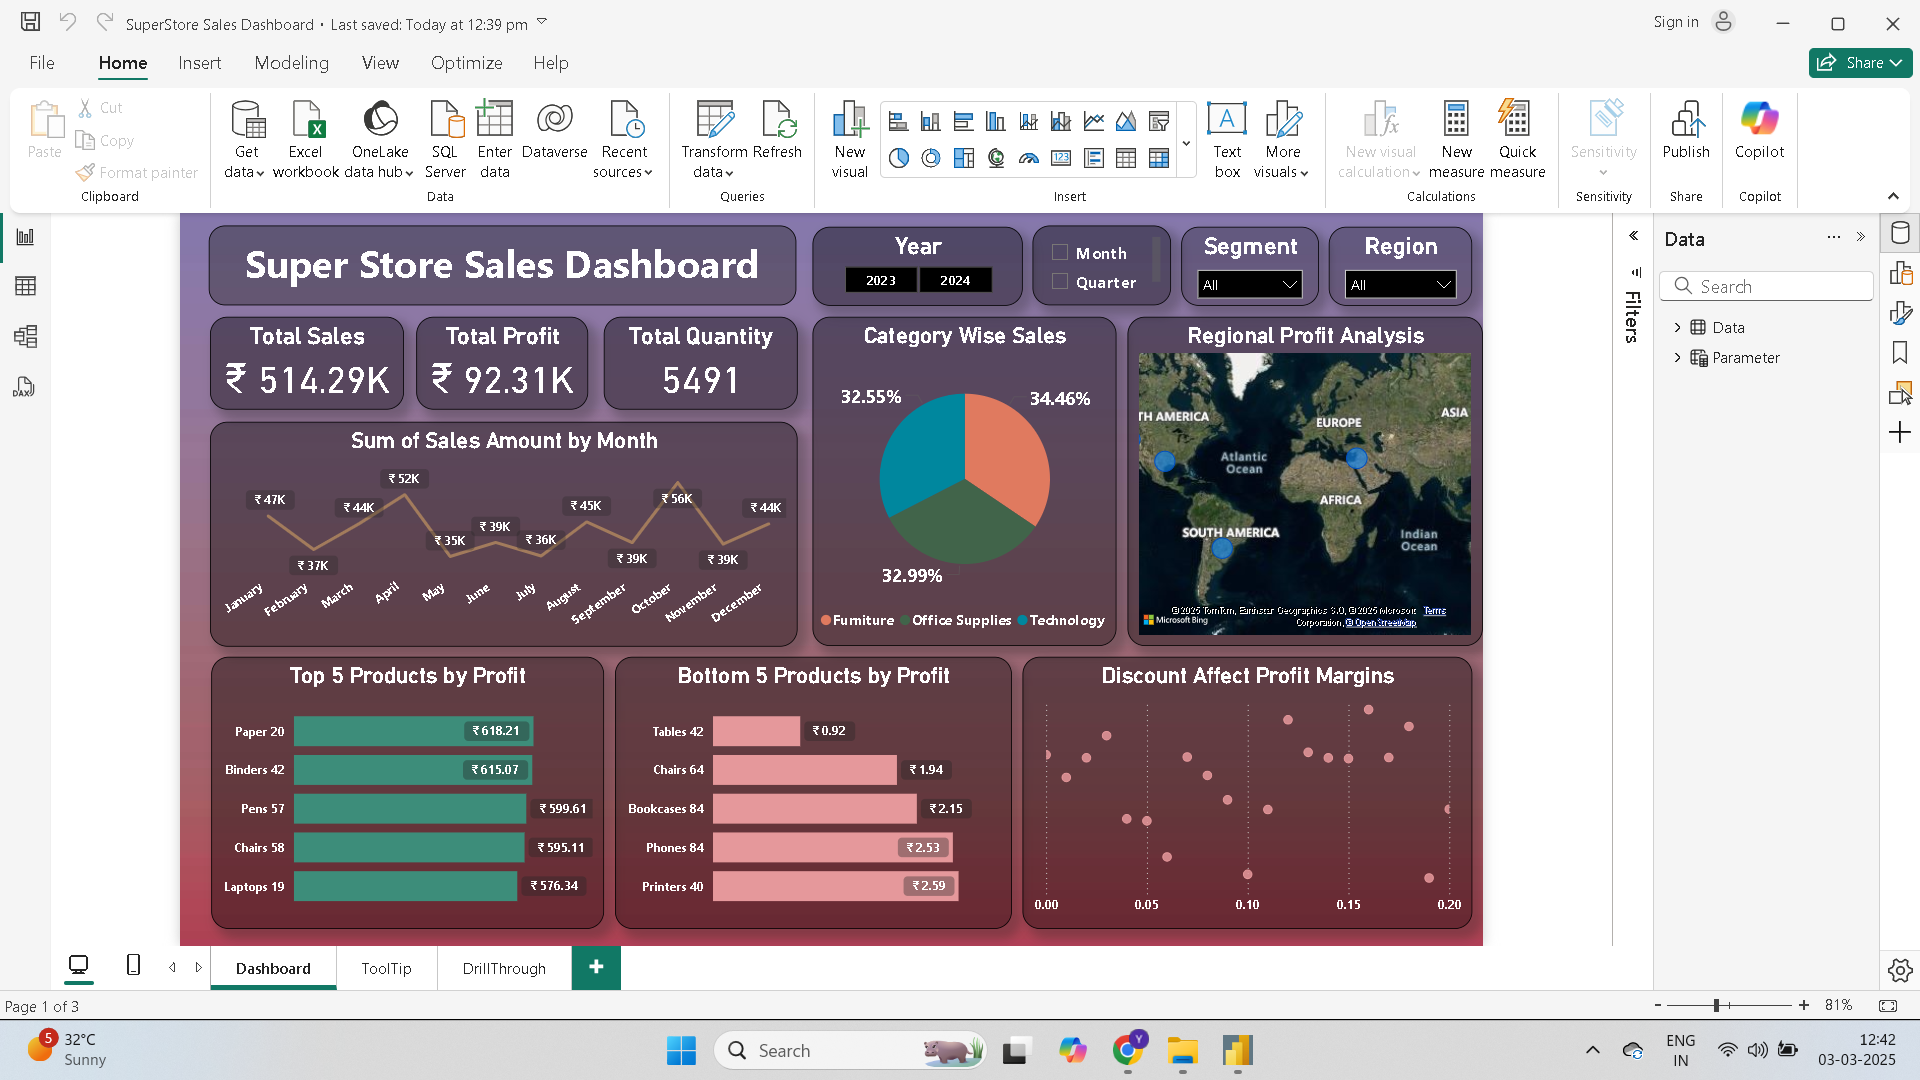

The dashboard page shown, as its layout file describes it:
{"tool":"powerbi","page":{"name":"Dashboard","canvas":[1280,720],"ordinal":0},"visuals":[{"type":"textbox","box":[28.2,12.3,576.7,78.5],"z":0},{"type":"card","title":"Total Sales","fields":{"Values":["Sum(Data.Sales Amount)"]},"box":[28.9,102.4,190.4,90.9],"z":1000},{"type":"card","title":"Total Profit","fields":{"Values":["Sum(Data.Profit)"]},"box":[232.3,102.4,168.8,90.9],"z":2000},{"type":"card","title":"Total Quantity","fields":{"Values":["Sum(Data.Quantity)"]},"box":[415.5,102.4,190.4,90.9],"z":3000},{"type":"pieChart","title":"Category Wise Sales","fields":{"Category":["Data.Category"],"Y":["Sum(Data.Sales Amount)"]},"box":[620.4,102.4,298.7,323.2],"z":4000},{"type":"lineChart","fields":{"Y":["Sum(Data.Sales Amount)"],"Category":["Data.Order Date.Variation.Date Hierarchy.Month","Data.Order Date.Variation.Date Hierarchy.Quarter"]},"box":[28.9,204.9,577.1,220.7],"z":5000},{"type":"slicer","fields":{"Values":["Parameter.Parameter"]},"box":[836.8,12.3,136.2,78.5],"z":6000},{"type":"barChart","title":"Top 5 Products by Profit","fields":{"Category":["Data.Product Name"],"Y":["Sum(Data.Profit)"]},"box":[30.3,435.7,385.2,266.9],"z":6001},{"type":"barChart","title":"Bottom 5 Products by Profit","fields":{"Category":["Data.Product Name"],"Y":["Sum(Data.Profit)"]},"box":[427.1,435.7,389.5,266.9],"z":6002},{"type":"map","title":"Regional Profit Analysis","fields":{"Size":["Sum(Data.Profit)"],"Category":["Data.Region"]},"box":[930.6,102.4,349.1,323.2],"z":6003},{"type":"slicer","title":"Year","fields":{"Values":["Data.Order Date.Variation.Date Hierarchy.Year"]},"box":[620.4,13,206.3,77.9],"z":6004},{"type":"slicer","title":"Segment","fields":{"Values":["Data.Customer Segment"]},"box":[982.8,13.5,135,77.3],"z":6005},{"type":"slicer","title":"Region","fields":{"Values":["Data.Region"]},"box":[1127.6,13.5,141.1,77.3],"z":6006},{"type":"scatterChart","title":"Discount Affect Profit Margins","fields":{"X":["Data.Discount"],"Y":["Data.Profit Margin %"]},"box":[827,435.6,441.7,267.5],"z":6007}]}

Visuals, with their boxes on the page's 1280x720 design canvas (x1, y1, x2, y2). These are canvas units, not pixel positions in the 1920x1080 screenshot, which may show the page scaled, cropped or inside an application window:
textbox: [28, 12, 605, 91]
"Total Sales" card: [29, 102, 219, 193]
"Total Profit" card: [232, 102, 401, 193]
"Total Quantity" card: [416, 102, 606, 193]
"Category Wise Sales" pieChart: [620, 102, 919, 426]
lineChart - Sum(Data.Sales Amount) x Data.Order Date.Variation.Date Hierarchy.Month: [29, 205, 606, 426]
slicer - Parameter.Parameter: [837, 12, 973, 91]
"Top 5 Products by Profit" barChart: [30, 436, 416, 703]
"Bottom 5 Products by Profit" barChart: [427, 436, 817, 703]
"Regional Profit Analysis" map: [931, 102, 1280, 426]
"Year" slicer: [620, 13, 827, 91]
"Segment" slicer: [983, 14, 1118, 91]
"Region" slicer: [1128, 14, 1269, 91]
"Discount Affect Profit Margins" scatterChart: [827, 436, 1269, 703]
